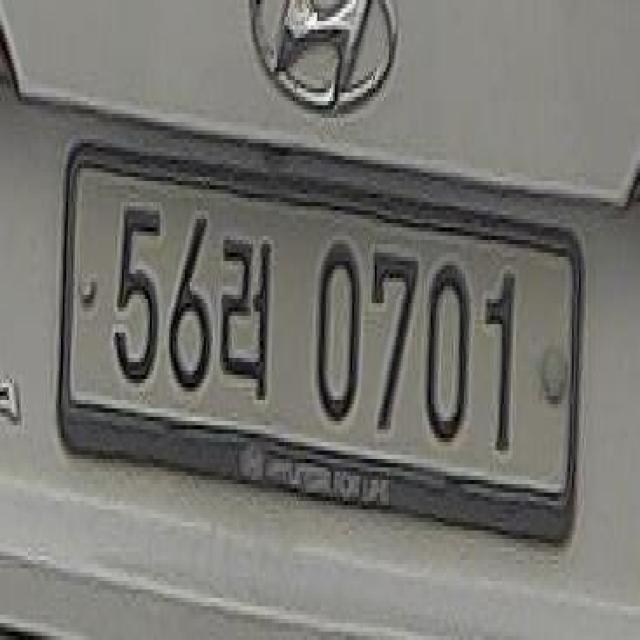illegal_plate: (63, 144, 589, 546)
